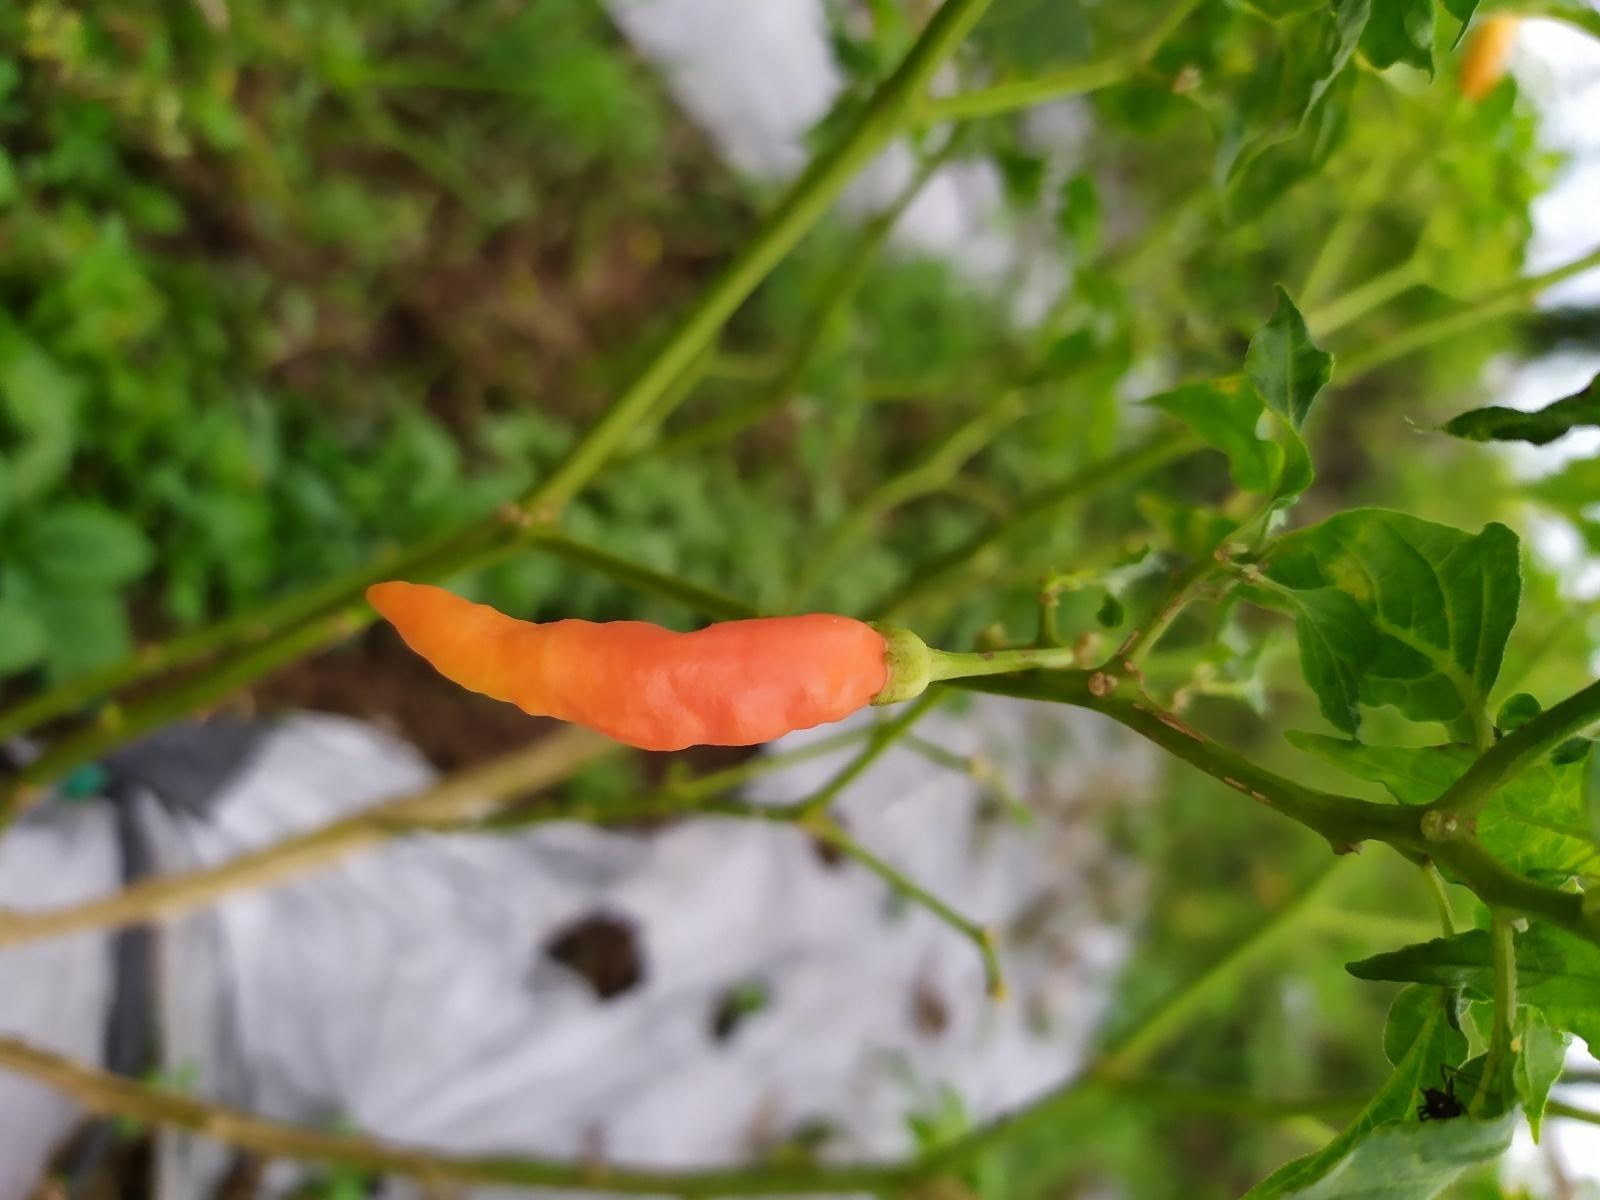cabai_normal: (365, 580, 902, 753)
